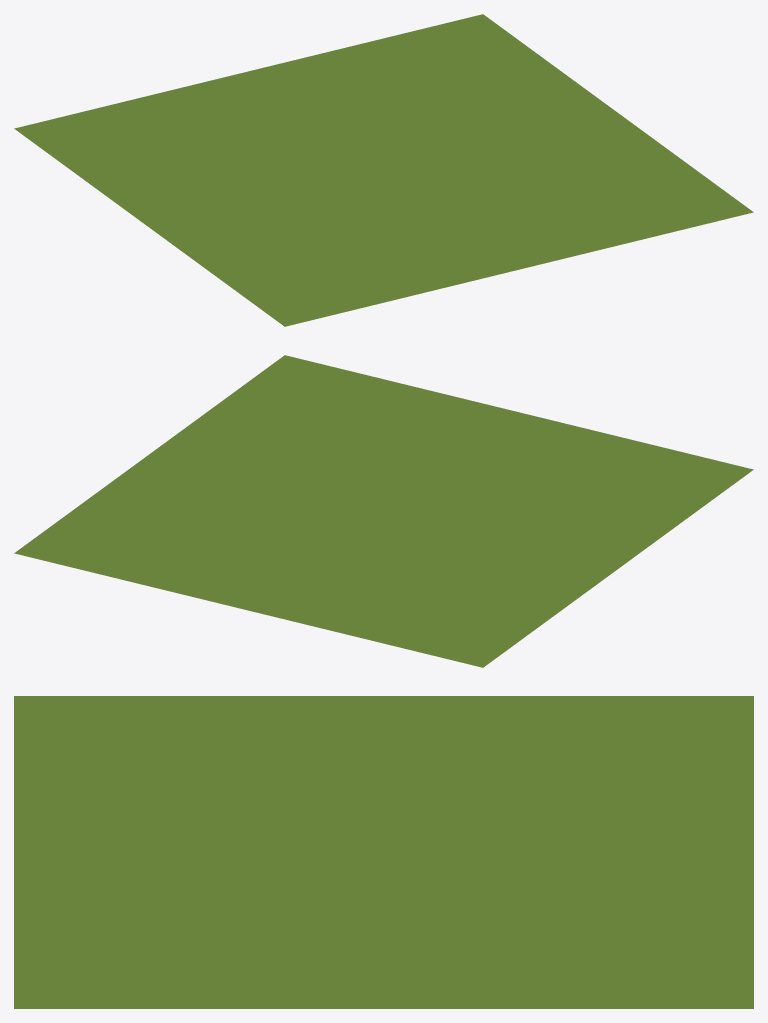
The model's file is cure-36-2.glb.
3 views of the same model, one above another, from view 1: azimuth 30°, elevation 25°; view 2: azimuth 150°, elevation 25°; view 3: azimuth 270°, elevation 25° (orthographic). The views are drawn at different scales.
Parts seen in each view (by area): view 1: cure-36-2; view 2: cure-36-2; view 3: cure-36-2.
Boxes of the visible parts, <box> form: cure-36-2: <box>14,14,753,326</box>; cure-36-2: <box>14,355,753,667</box>; cure-36-2: <box>14,696,753,1008</box>.
Size of the model in its own units: 100 by 0 by 100.
